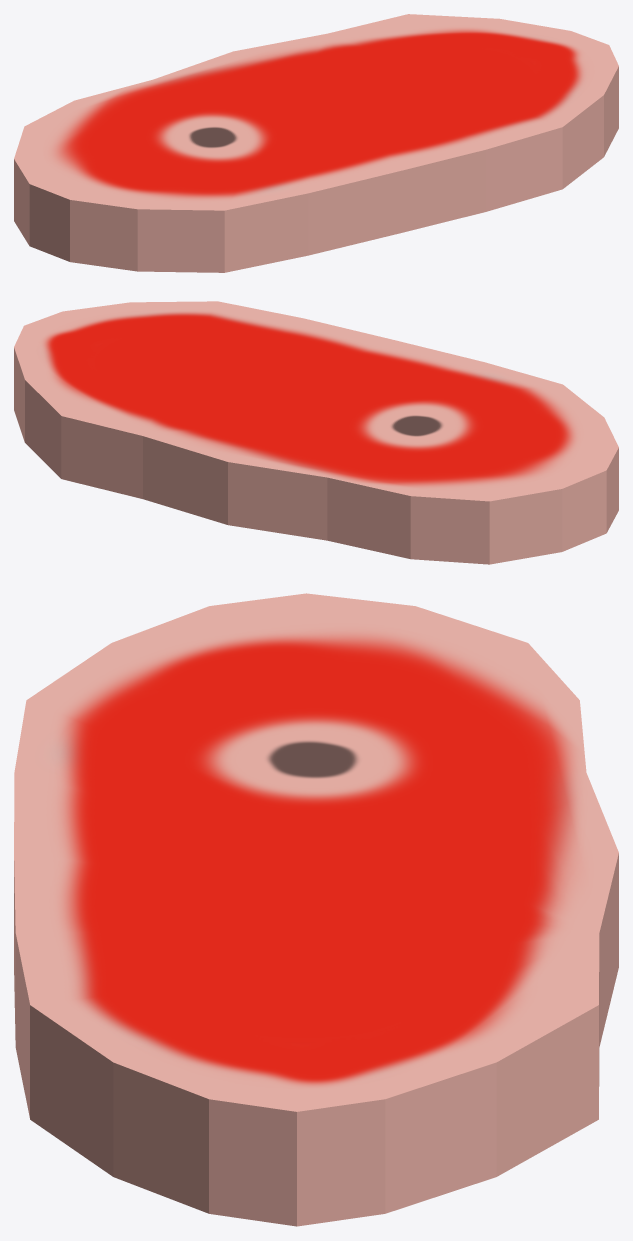
The model's file is meat-01.fbx.
3 views of the same model, one above another, from view 1: azimuth 30°, elevation 25°; view 2: azimuth 150°, elevation 25°; view 3: azimuth 270°, elevation 25° (orthographic). The views are drawn at different scales.
Parts seen in each view (by area): view 1: Cylinder.001, Cylinder; view 2: Cylinder.001, Cylinder; view 3: Cylinder.001, Cylinder.
Boxes of the visible parts, box(x1,y1,x2,y2) form: Cylinder.001: box(14, 14, 618, 210); Cylinder: box(14, 66, 618, 272); Cylinder.001: box(14, 301, 618, 501); Cylinder: box(14, 348, 618, 564); Cylinder.001: box(14, 593, 618, 1111); Cylinder: box(14, 853, 618, 1226).
Bounding box in the file's own units: 434 × 44.7 × 214.
